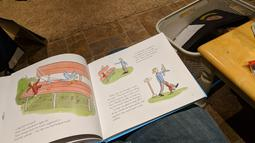text block: (100, 84, 150, 126), (12, 116, 79, 138), (130, 42, 163, 65)
